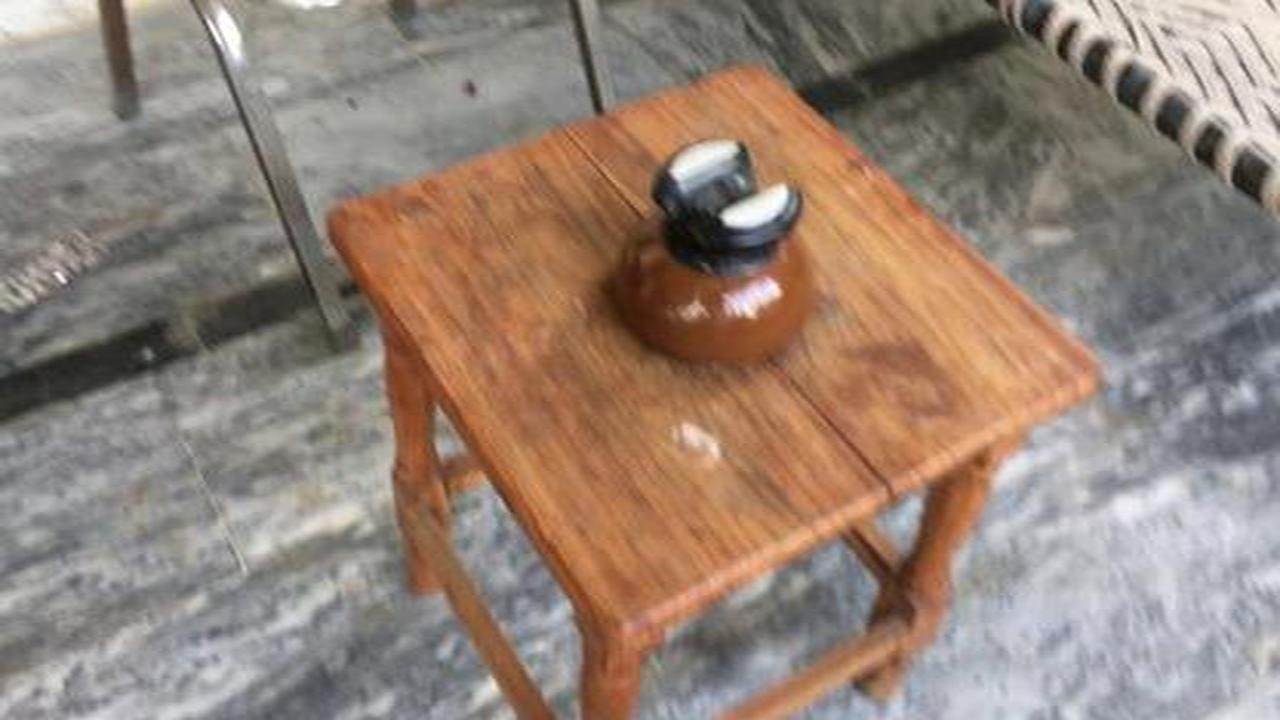insulator_pin: (582, 125, 834, 383)
